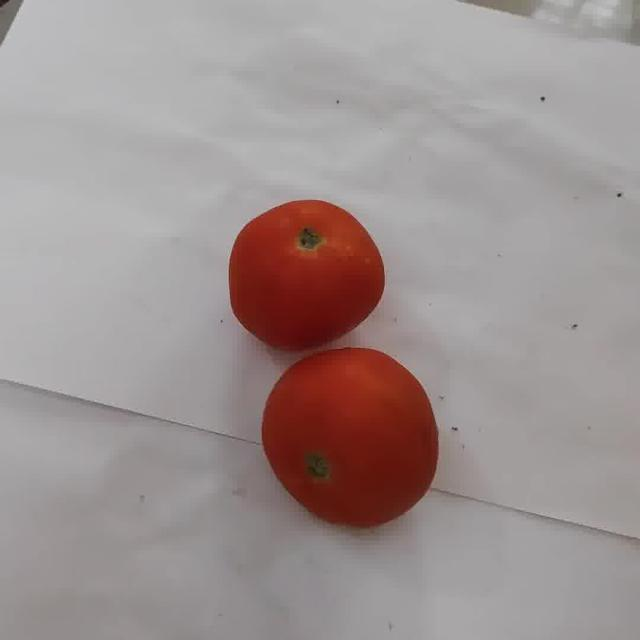Tomato: (261, 348, 438, 528), (229, 200, 385, 350)
